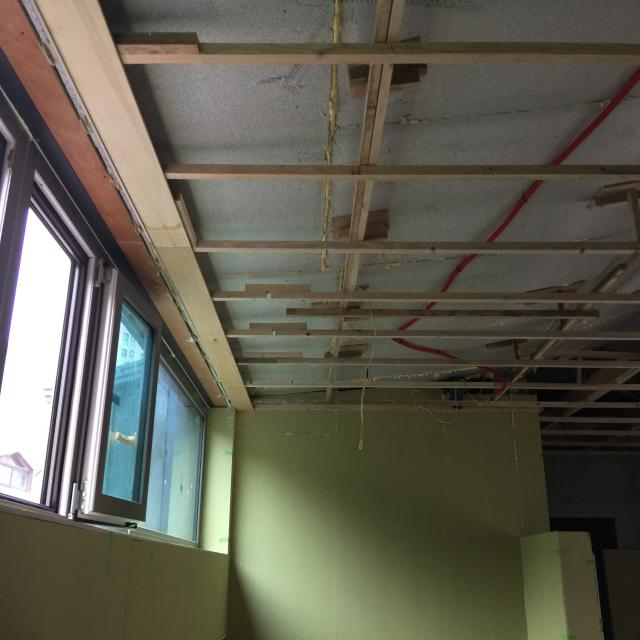wood: (325, 0, 393, 400), (348, 0, 407, 292), (119, 42, 640, 64), (161, 164, 640, 180), (193, 241, 640, 255), (271, 292, 640, 304), (275, 329, 640, 340), (243, 380, 640, 390), (250, 399, 640, 409), (278, 358, 640, 368), (175, 192, 198, 248), (208, 290, 266, 300), (244, 284, 311, 292), (224, 329, 272, 337), (249, 323, 307, 329), (245, 352, 302, 358), (234, 358, 278, 365)
